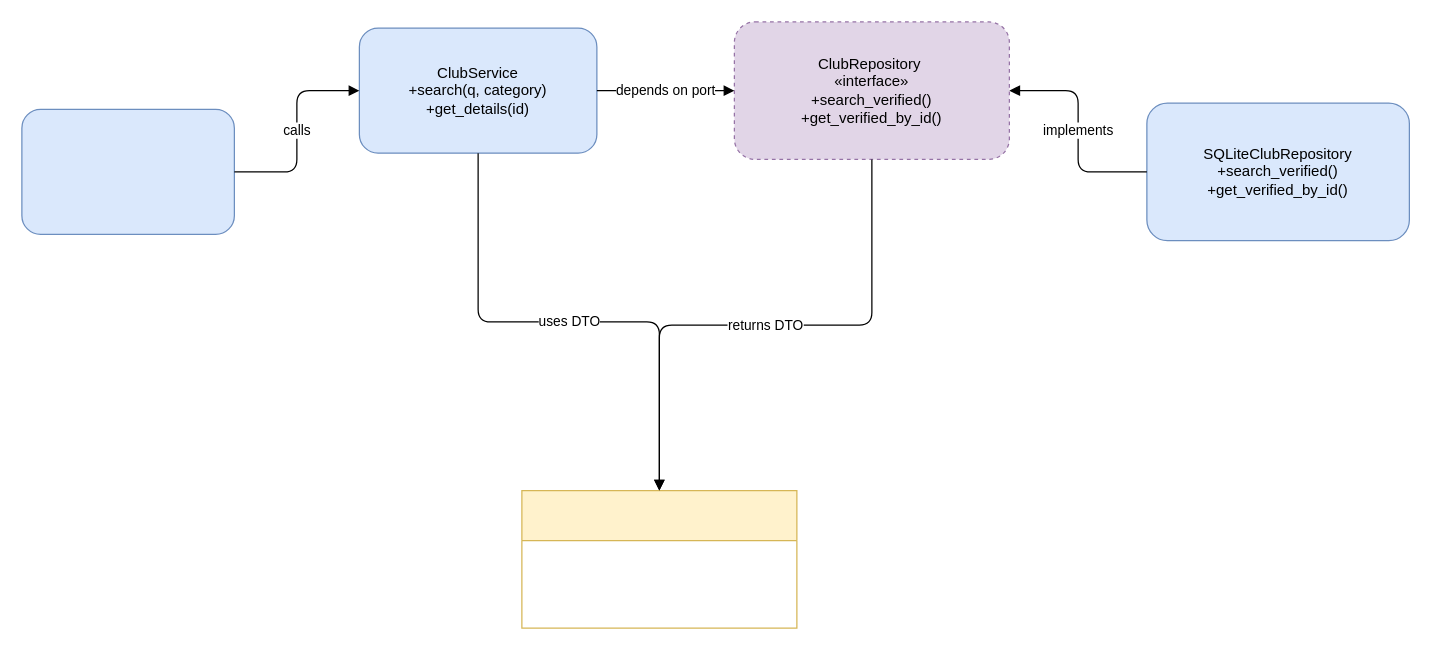
This 1431x650 diagram has some shape labels left out. Here are the shapes that lost their labels. From the top down, the centre of each, then its label:
At pixel 127 171: "HTTP Handler +do_GET() +json_response()".
At pixel 659 558: "ClubSummary «DTO»\nid, name, category\ndescription, activities\ncontact".
